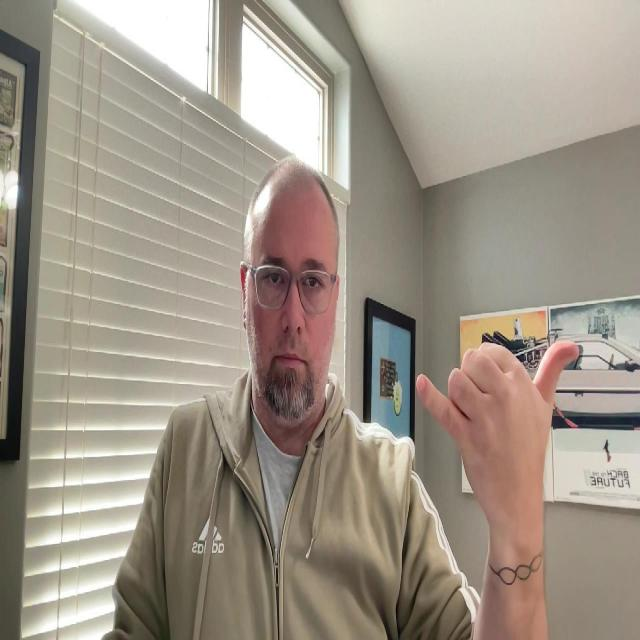face: (245, 204, 339, 428)
